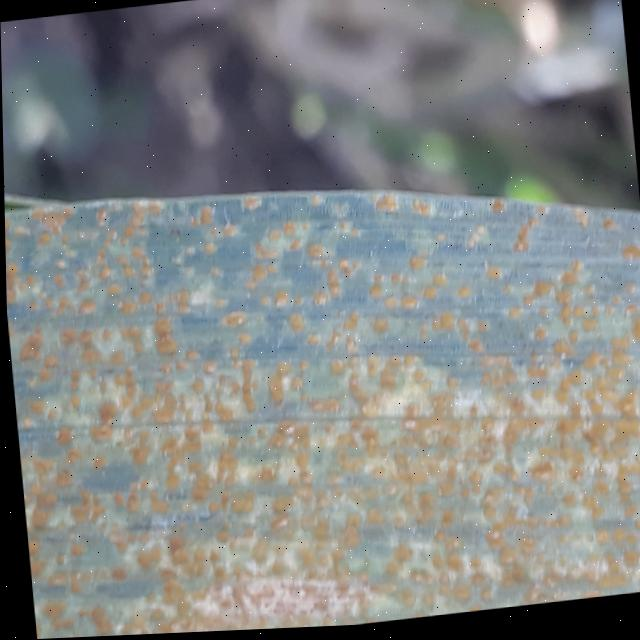orang_rust: (3, 135, 640, 640)
